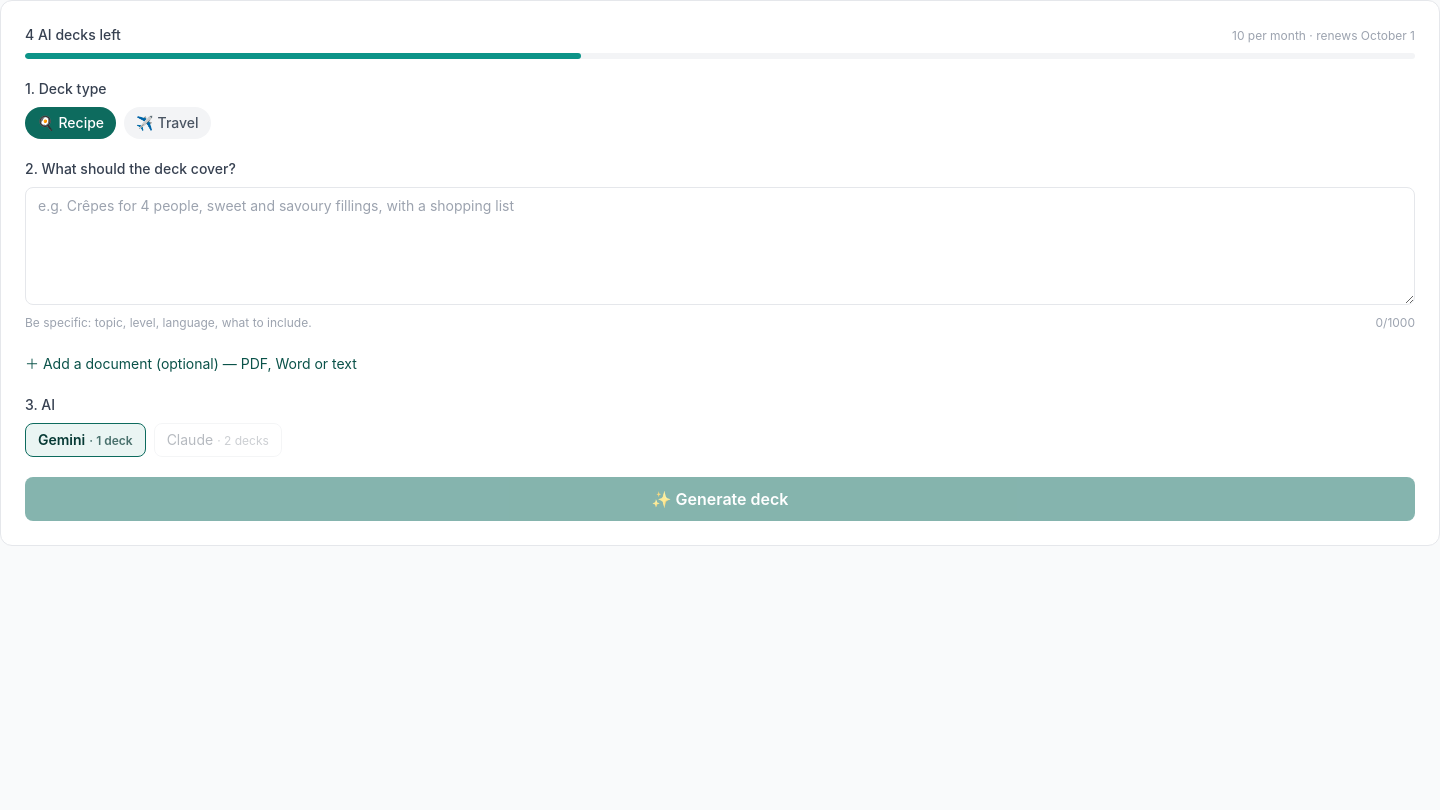
Test case: shows the server error when generation fails
The width and height of the screenshot is (1440, 810).
Expected: the text "4 AI decks left" is shown, [25,25,121,45]
Type "Three days in Lisbon on a budget" into the text box at (720, 246), box [25,187,1415,305]
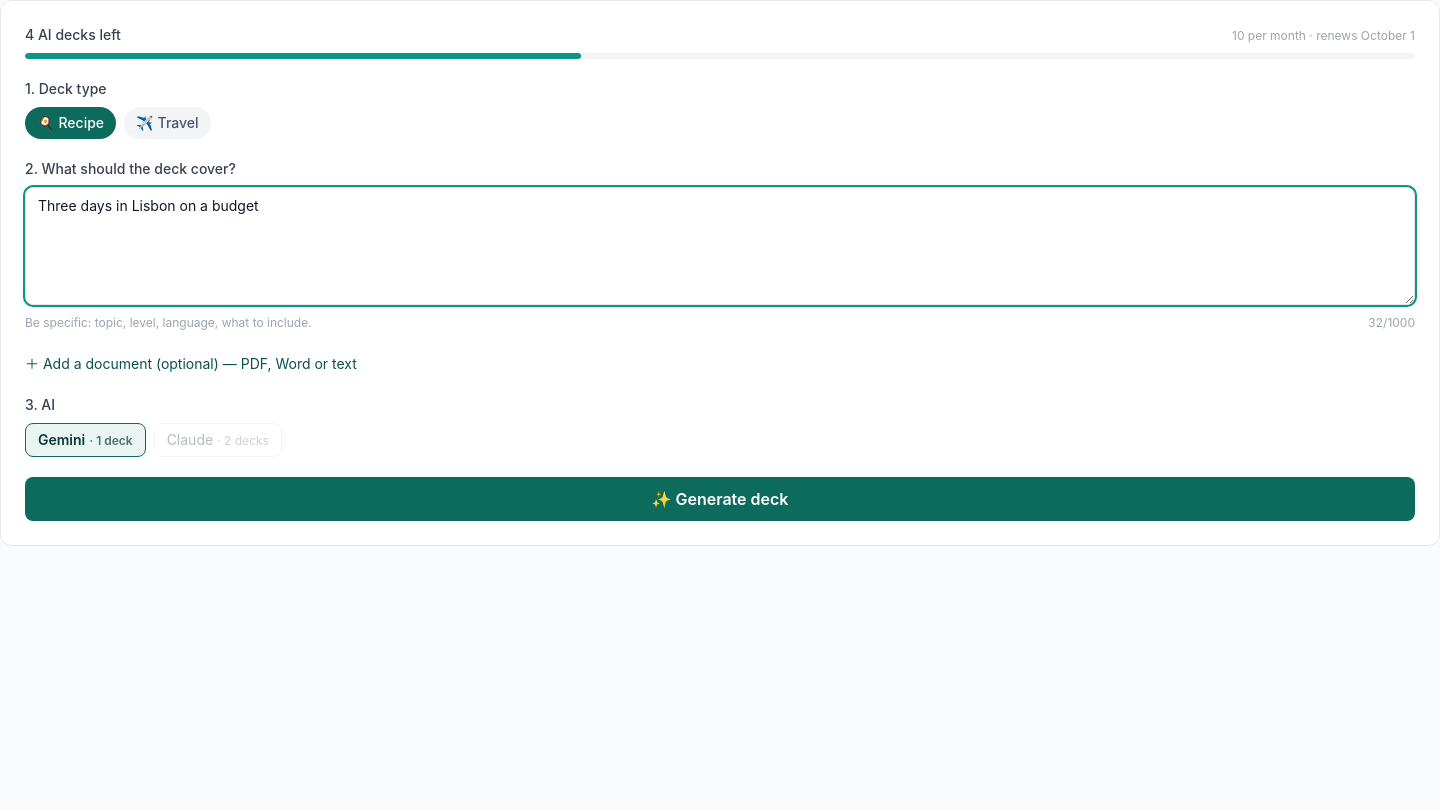
Click the button "✨ Generate deck" at (720, 499), box [25,477,1415,521]
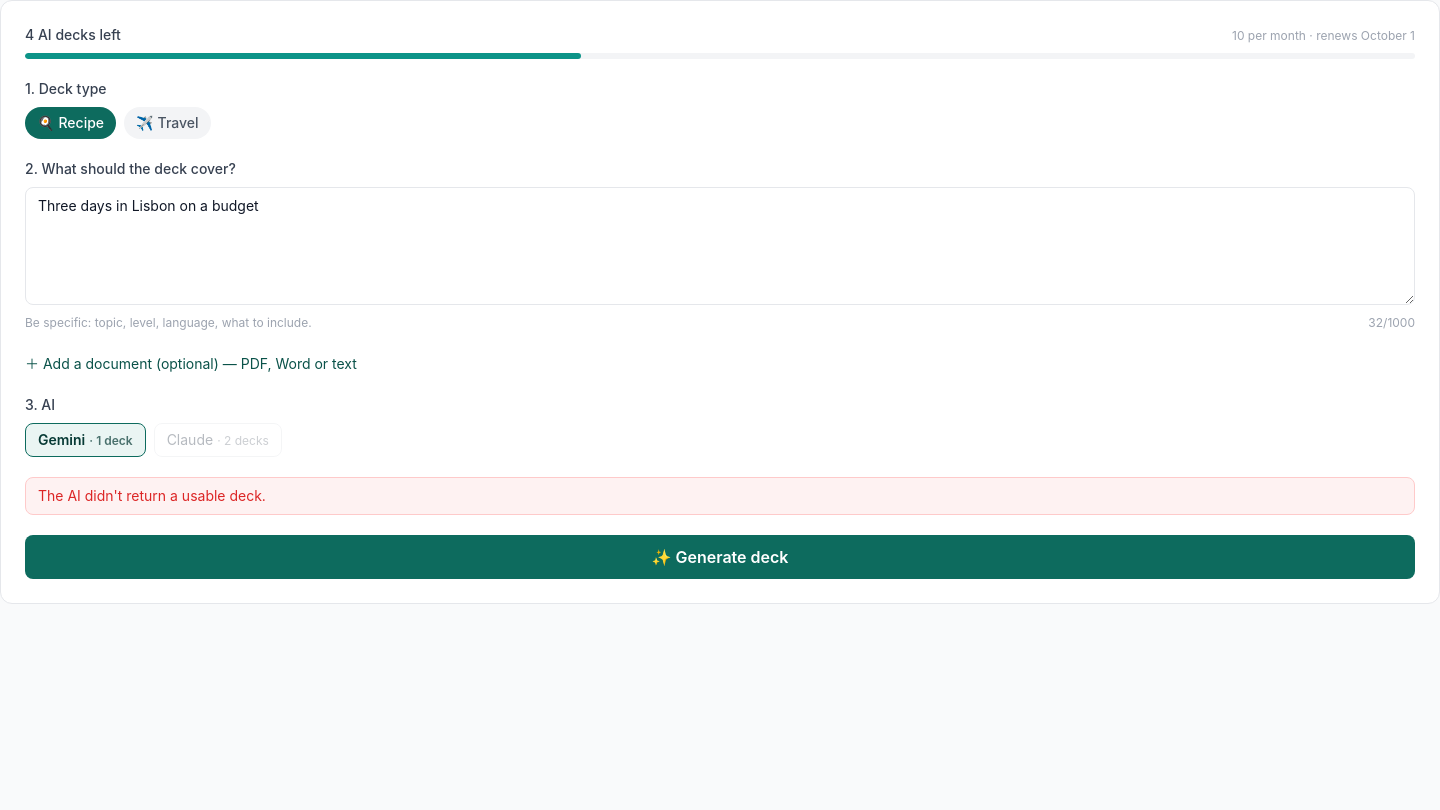
Expected: the text "The AI didn't return a usable deck." is shown, [25,477,1415,515]
